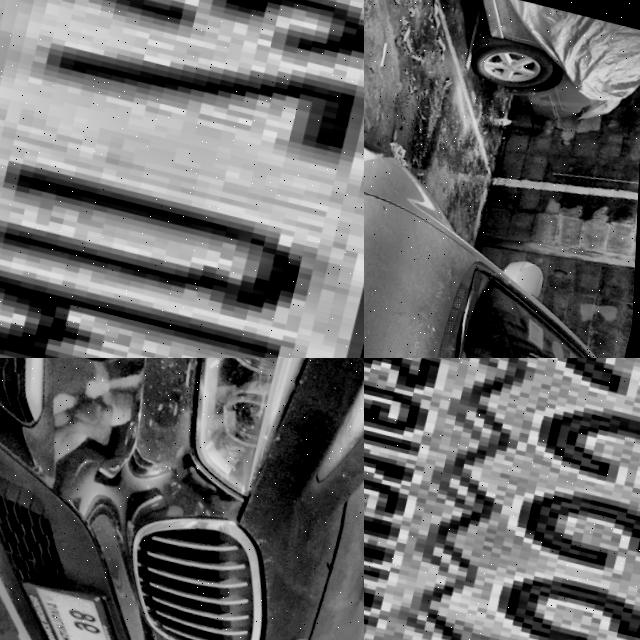license-plate: (0, 0, 364, 358), (364, 358, 640, 640), (7, 572, 154, 640)
